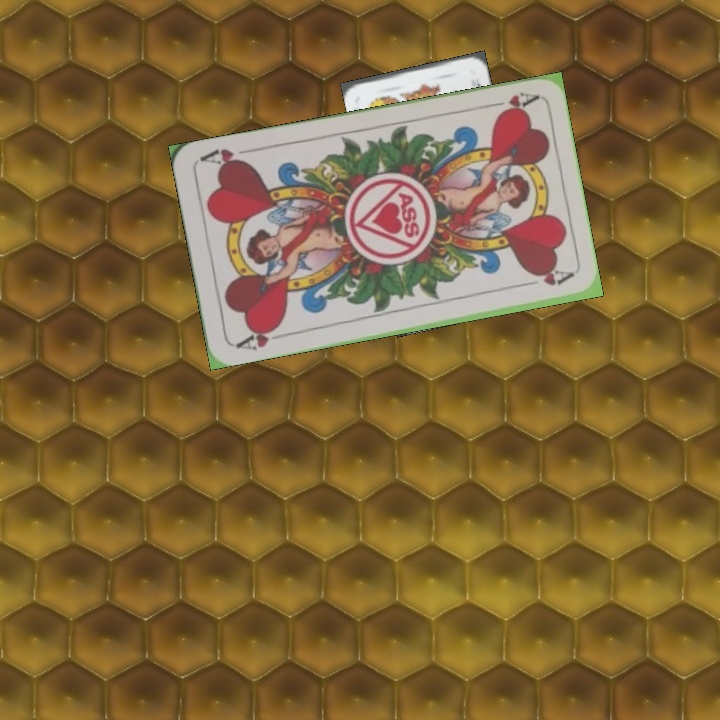HA: (232, 321, 289, 353), (481, 88, 540, 118)
